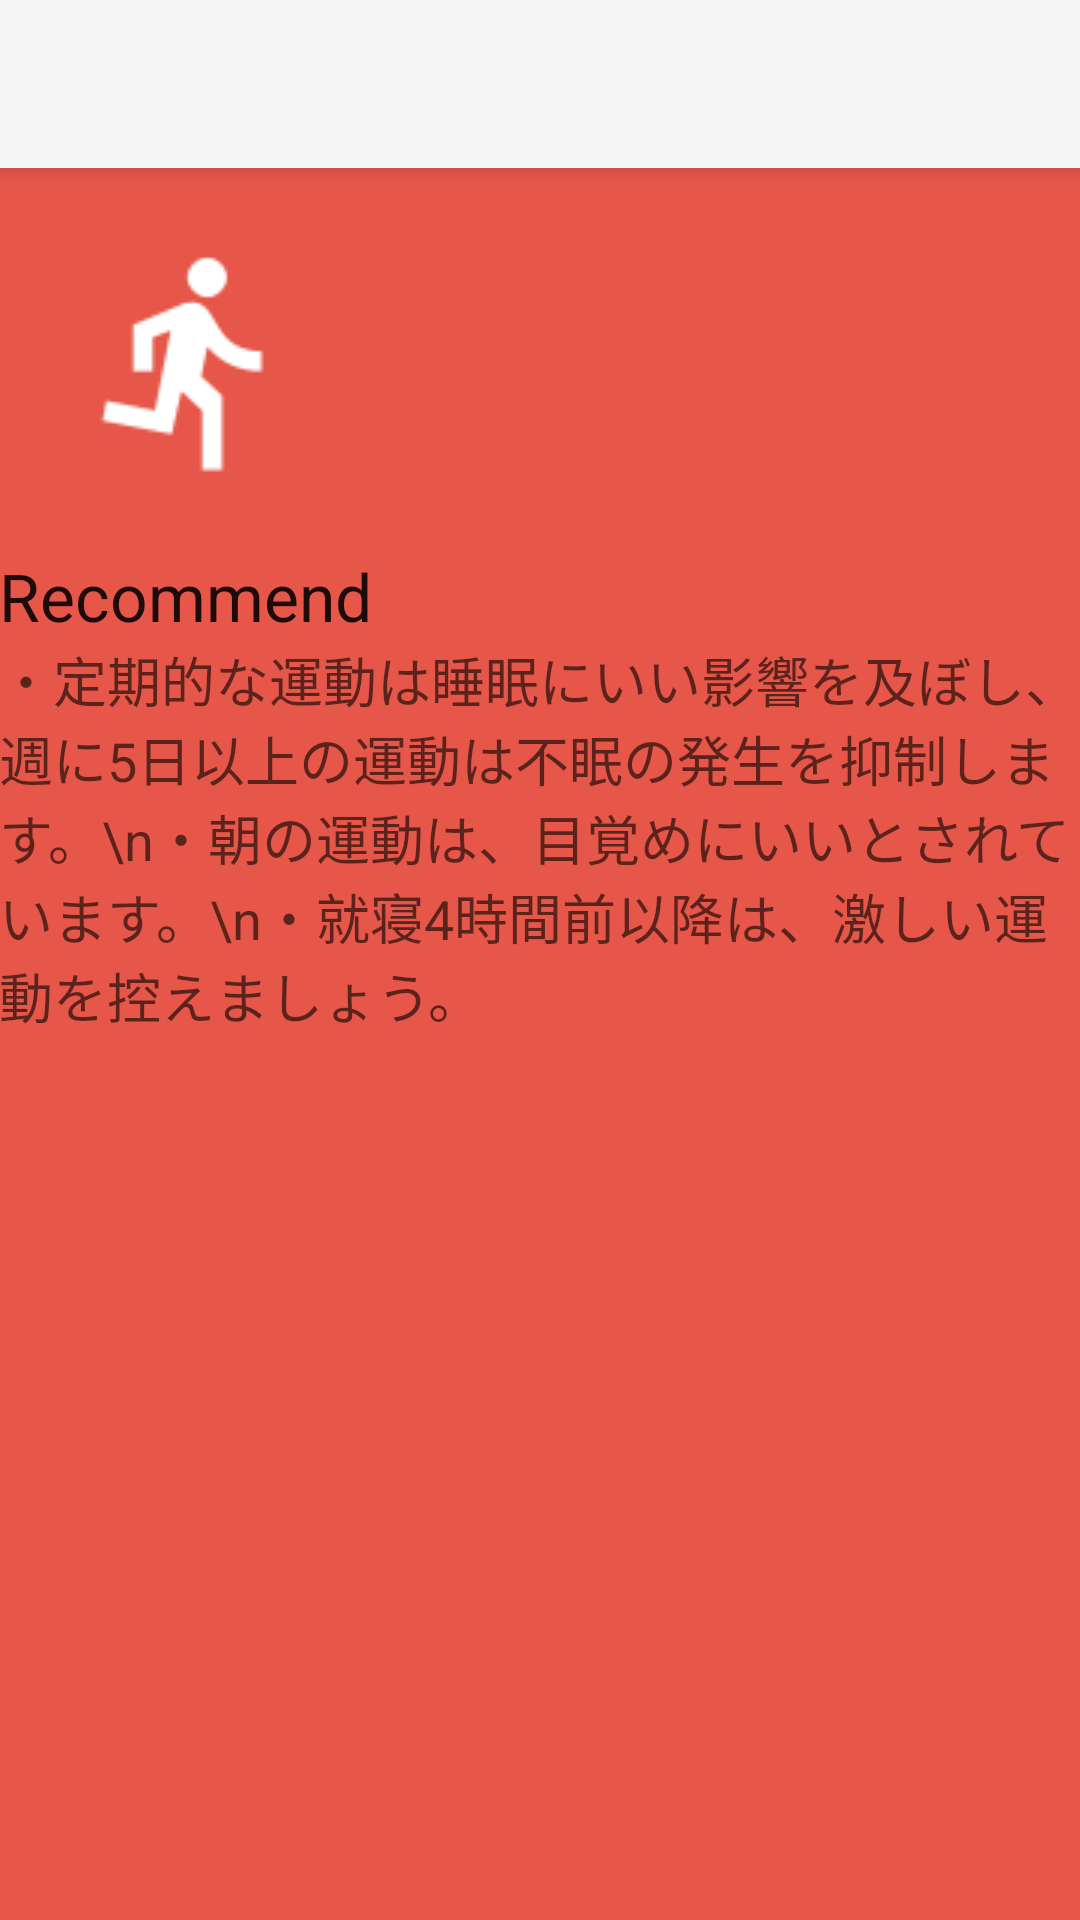

Locate icon controls on the screen. Image size 1080w x 1920h, boxes as rect(x1, y1, x2, y2).
exercise top: rect(101, 257, 264, 472)
